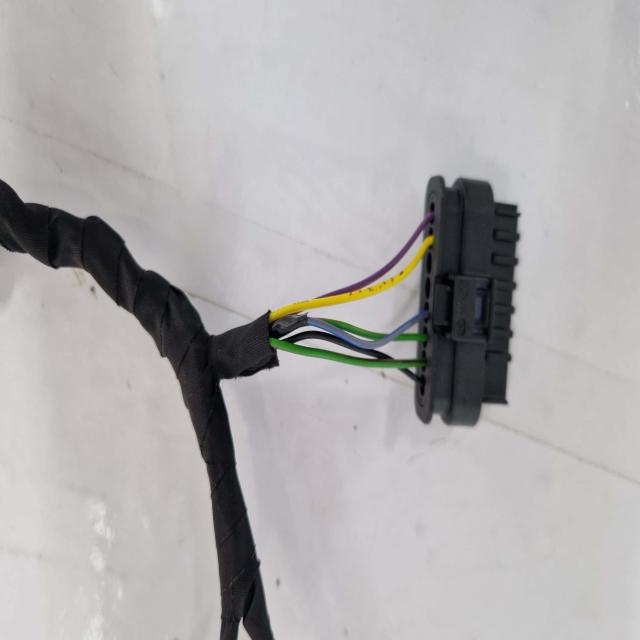Connector: (411, 175, 516, 428)
Gape: (262, 215, 432, 390)
MHEV_N11_Cable: (23, 198, 278, 640)
